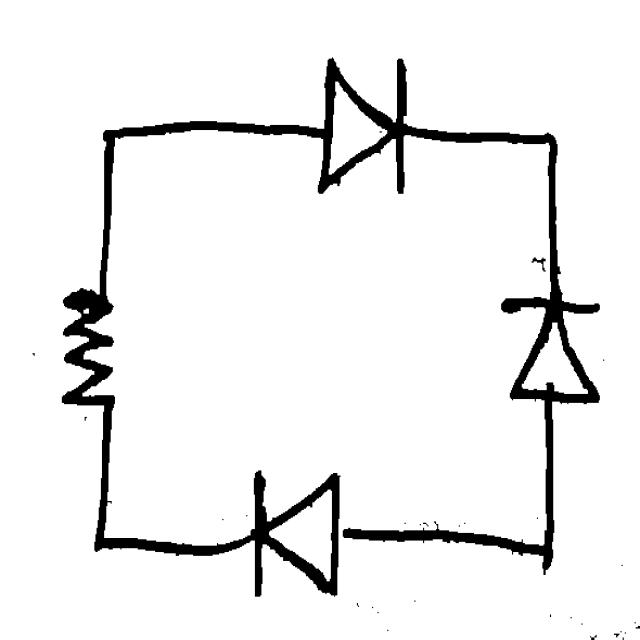diode: (228, 445, 354, 610), (300, 38, 418, 209), (488, 284, 609, 421)
resistor: (53, 270, 132, 421)
